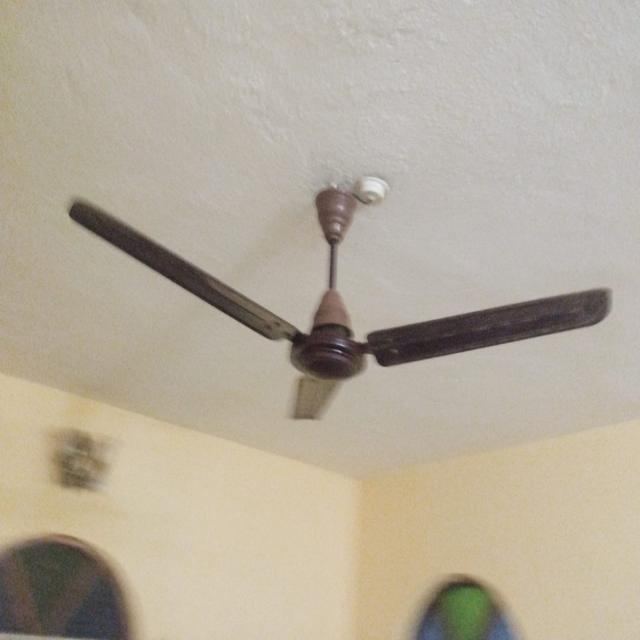fan_off: (74, 186, 612, 425)
